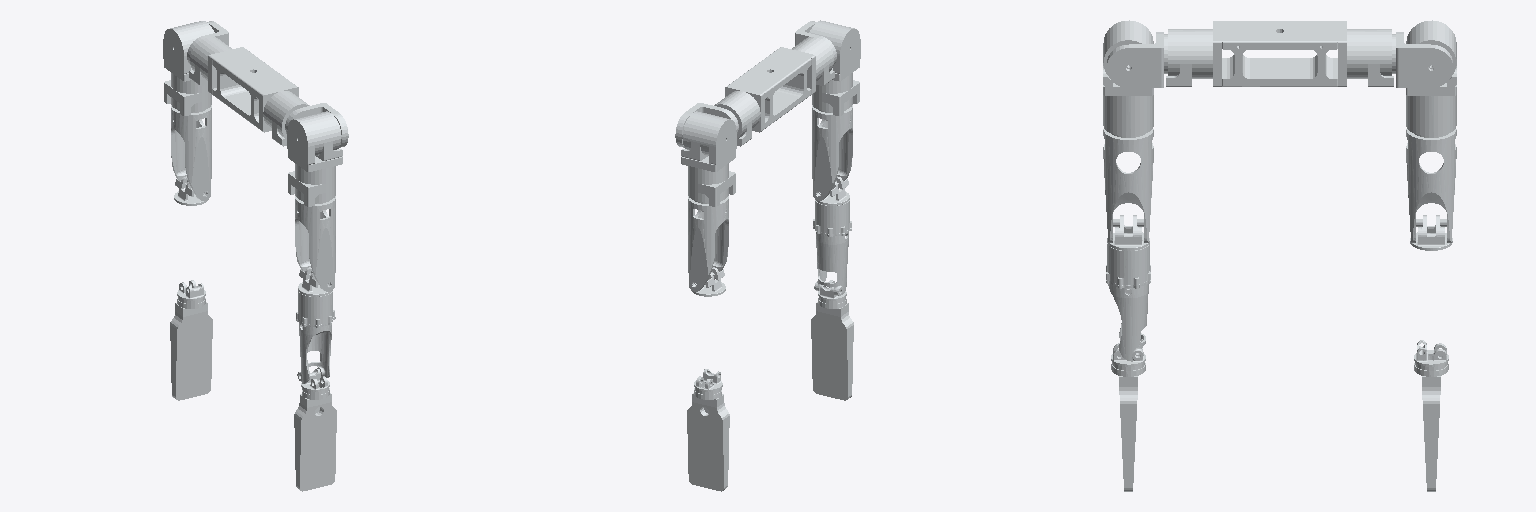
URDF robot description (cx_description):
<?xml version="1.0" encoding="utf-8"?>
<!-- This URDF was automatically created by SolidWorks to URDF Exporter! Originally created by [author] ([email redacted]) 
     Commit Version: 1.6.0-4-g7f85cfe  Build Version: 1.6.7995.38578
     For more information, please see http://wiki.ros.org/sw_urdf_exporter -->
<robot
  name="cx_description" >
  
  
    <link 
  name="dummy">
</link>
<joint 
  name="dummy_joint" 
  type="fixed">
  <parent 
  link="dummy"/>
  <child 
  link="base_link"/>
</joint>


  <link
    name="base_link">
    <inertial>
      <origin
        xyz="-8.57785426963885E-06 2.91685023845365E-11 -0.000974489333363106"
        rpy="0 0 0" />
      <mass
        value="4.32625731944912" />
      <inertia
        ixx="0.00936193290592399"
        ixy="-2.41377958713089E-11"
        ixz="1.11730024887402E-06"
        iyy="0.00464359195689199"
        iyz="3.91172399358543E-12"
        izz="0.00881969682014567" />
    </inertial>
    <visual>
      <origin
        xyz="0 0 0"
        rpy="0 0 0" />
      <geometry>
        <mesh
          filename="package://cx_description/meshes/base_link.STL" />
      </geometry>
      <material
        name="">
        <color
          rgba="0.898039215686275 0.917647058823529 0.929411764705882 1" />
      </material>
    </visual>
    <collision>
      <origin
        xyz="0 0 0"
        rpy="0 0 0" />
      <geometry>
        <mesh
          filename="package://cx_description/meshes/base_link.STL" />
      </geometry>
    </collision>
  </link>
  <link
    name="Link101">
    <inertial>
      <origin
        xyz="1.7677E-18 0.031119 -0.031336"
        rpy="0 0 0" />
      <mass
        value="0.30814" />
      <inertia
        ixx="0.00036302"
        ixy="-3.948E-20"
        ixz="1.1132E-19"
        iyy="0.00031107"
        iyz="-9.0829E-05"
        izz="0.0003086" />
    </inertial>
    <visual>
      <origin
        xyz="0 0 0"
        rpy="0 0 0" />
      <geometry>
        <mesh
          filename="package://cx_description/meshes/Link101.STL" />
      </geometry>
      <material
        name="">
        <color
          rgba="0.89804 0.91765 0.92941 1" />
      </material>
    </visual>
    <collision>
      <origin
        xyz="0 0 0"
        rpy="0 0 0" />
      <geometry>
        <mesh
          filename="package://cx_description/meshes/Link101.STL" />
      </geometry>
    </collision>
  </link>
  <joint
    name="joint101"
    type="revolute">
    <origin
      xyz="0 0.241 0"
      rpy="0 -1.5708 -1.5708" />
    <parent
      link="base_link" />
    <child
      link="Link101" />
    <axis
      xyz="0 0 -1" />
    <limit
      lower="-3.14"
      upper="3.14"
      effort="100"
      velocity="1" />
  </joint>
  <link
    name="Link102">
    <inertial>
      <origin
        xyz="6.5582E-11 0.047474 -0.00034923"
        rpy="0 0 0" />
      <mass
        value="2.6974" />
      <inertia
        ixx="0.0030083"
        ixy="3.6065E-11"
        ixz="-5.4064E-11"
        iyy="0.0025465"
        iyz="4.3713E-05"
        izz="0.0028491" />
    </inertial>
    <visual>
      <origin
        xyz="0 0 0"
        rpy="0 0 0" />
      <geometry>
        <mesh
          filename="package://cx_description/meshes/Link102.STL" />
      </geometry>
      <material
        name="">
        <color
          rgba="0.89804 0.91765 0.92941 1" />
      </material>
    </visual>
    <collision>
      <origin
        xyz="0 0 0"
        rpy="0 0 0" />
      <geometry>
        <mesh
          filename="package://cx_description/meshes/Link102.STL" />
      </geometry>
    </collision>
  </link>
  <joint
    name="joint102"
    type="revolute">
    <origin
      xyz="0 0 0"
      rpy="0 1.5708 1.5708" />
    <parent
      link="Link101" />
    <child
      link="Link102" />
    <axis
      xyz="0 0 1" />
    <limit
      lower="-3.14"
      upper="3.14"
      effort="100"
      velocity="1" />
  </joint>
  <link
    name="Link103">
    <inertial>
      <origin
        xyz="0.00403786373486228 -8.5540454944355E-07 -0.110448513050591"
        rpy="0 0 0" />
      <mass
        value="0.542683241876568" />
      <inertia
        ixx="0.00196275066135883"
        ixy="1.20230059837588E-08"
        ixz="-0.000106647178605952"
        iyy="0.00182891010022251"
        iyz="-9.87744488588795E-08"
        izz="0.000634630066974942" />
    </inertial>
    <visual>
      <origin
        xyz="0 0 0"
        rpy="0 0 0" />
      <geometry>
        <mesh
          filename="package://cx_description/meshes/Link103.STL" />
      </geometry>
      <material
        name="">
        <color
          rgba="0.898039215686275 0.917647058823529 0.929411764705882 1" />
      </material>
    </visual>
    <collision>
      <origin
        xyz="0 0 0"
        rpy="0 0 0" />
      <geometry>
        <mesh
          filename="package://cx_description/meshes/Link103.STL" />
      </geometry>
    </collision>
  </link>
  <joint
    name="joint103"
    type="revolute">
    <origin
      xyz="0 0.31051 0"
      rpy="-1.5708 -1.5708 0" />
    <parent
      link="Link102" />
    <child
      link="Link103" />
    <axis
      xyz="0 0 1" />
    <limit
      lower="-3.14"
      upper="3.14"
      effort="100"
      velocity="1" />
  </joint>
  <link
    name="Link104">
    <inertial>
      <origin
        xyz="-0.010629 0.0077446 2.2742E-09"
        rpy="0 0 0" />
      <mass
        value="0.10826" />
      <inertia
        ixx="4.0318E-05"
        ixy="-5.5767E-07"
        ixz="7.0645E-12"
        iyy="5.2622E-05"
        iyz="-6.9112E-12"
        izz="4.1126E-05" />
    </inertial>
    <visual>
      <origin
        xyz="0 0 0"
        rpy="0 0 0" />
      <geometry>
        <mesh
          filename="package://cx_description/meshes/Link104.STL" />
      </geometry>
      <material
        name="">
        <color
          rgba="0.89804 0.91765 0.92941 1" />
      </material>
    </visual>
    <collision>
      <origin
        xyz="0 0 0"
        rpy="0 0 0" />
      <geometry>
        <mesh
          filename="package://cx_description/meshes/Link104.STL" />
      </geometry>
    </collision>
  </link>
  <joint
    name="joint104"
    type="revolute">
    <origin
      xyz="0.0125 0 0"
      rpy="1.5708 0 0" />
    <parent
      link="Link103" />
    <child
      link="Link104" />
    <axis
      xyz="0 0 -1" />
    <limit
      lower="-3.14"
      upper="3.14"
      effort="100"
      velocity="1" />
  </joint>
  <link
    name="Link105">
    <inertial>
      <origin
        xyz="0.00133867533735113 -2.52078063982315E-07 -0.136878436349784"
        rpy="0 0 0" />
      <mass
        value="0.823764981510393" />
      <inertia
        ixx="0.000805503567246632"
        ixy="4.34642990628117E-09"
        ixz="-3.4217286340017E-05"
        iyy="0.000788139498917337"
        iyz="2.4135042818871E-08"
        izz="0.000520088884504294" />
    </inertial>
    <visual>
      <origin
        xyz="0 0 0"
        rpy="0 0 0" />
      <geometry>
        <mesh
          filename="package://cx_description/meshes/Link105.STL" />
      </geometry>
      <material
        name="">
        <color
          rgba="0.898039215686275 0.917647058823529 0.929411764705882 1" />
      </material>
    </visual>
    <collision>
      <origin
        xyz="0 0 0"
        rpy="0 0 0" />
      <geometry>
        <mesh
          filename="package://cx_description/meshes/Link105.STL" />
      </geometry>
    </collision>
  </link>
  <joint
    name="joint105"
    type="revolute">
    <origin
      xyz="-0.0125 0.20712 0"
      rpy="-1.5708 1.5708 0" />
    <parent
      link="Link104" />
    <child
      link="Link105" />
    <axis
      xyz="0 0 1" />
    <limit
      lower="-3.14"
      upper="3.14"
      effort="100"
      velocity="1" />
  </joint>
  <link
    name="Link106">
    <inertial>
      <origin
        xyz="-0.0147561154984305 0.115479110569376 -1.14344406740984E-08"
        rpy="0 0 0" />
      <mass
        value="1.03484290276942" />
      <inertia
        ixx="0.00380934495195938"
        ixy="5.37470018645279E-06"
        ixz="-7.18789558645812E-11"
        iyy="0.000540685574036727"
        iyz="-3.26010155500601E-10"
        izz="0.00341220175694068" />
    </inertial>
    <visual>
      <origin
        xyz="0 0 0"
        rpy="0 0 0" />
      <geometry>
        <mesh
          filename="package://cx_description/meshes/Link106.STL" />
      </geometry>
      <material
        name="">
        <color
          rgba="0.898039215686275 0.917647058823529 0.929411764705882 1" />
      </material>
    </visual>
    <collision>
      <origin
        xyz="0 0 0"
        rpy="0 0 0" />
      <geometry>
        <mesh
          filename="package://cx_description/meshes/Link106.STL" />
      </geometry>
    </collision>
  </link>
  <joint
    name="joint106"
    type="revolute">
    <origin
      xyz="0.015 0 0"
      rpy="1.5708 0 0" />
    <parent
      link="Link105" />
    <child
      link="Link106" />
    <axis
      xyz="0 0 -1" />
    <limit
      lower="-3.14"
      upper="3.14"
      effort="100"
      velocity="1" />
  </joint>
  <link
    name="Link201">
    <inertial>
      <origin
        xyz="-1.4794906639831E-17 0.0311194583357994 0.0313358876222972"
        rpy="0 0 0" />
      <mass
        value="0.308135455569499" />
      <inertia
        ixx="0.00036301532443775"
        ixy="-6.28566469778367E-20"
        ixz="9.68520829746967E-20"
        iyy="0.000311071590986095"
        iyz="9.08288552069949E-05"
        izz="0.000308601623909284" />
    </inertial>
    <visual>
      <origin
        xyz="0 0 0"
        rpy="0 0 0" />
      <geometry>
        <mesh
          filename="package://cx_description/meshes/Link201.STL" />
      </geometry>
      <material
        name="">
        <color
          rgba="0.898039215686275 0.917647058823529 0.929411764705882 1" />
      </material>
    </visual>
    <collision>
      <origin
        xyz="0 0 0"
        rpy="0 0 0" />
      <geometry>
        <mesh
          filename="package://cx_description/meshes/Link201.STL" />
      </geometry>
    </collision>
  </link>
  <joint
    name="joint201"
    type="revolute">
    <origin
      xyz="0 -0.241 0"
      rpy="0 -1.5708 -1.5708" />
    <parent
      link="base_link" />
    <child
      link="Link201" />
    <axis
      xyz="0 0 -1" />
    <limit
      lower="-3.14"
      upper="3.14"
      effort="100"
      velocity="1" />
  </joint>
  <link
    name="Link202">
    <inertial>
      <origin
        xyz="6.55817899986033E-11 0.0474740262124326 -0.00034923154558"
        rpy="0 0 0" />
      <mass
        value="2.69736870589475" />
      <inertia
        ixx="0.0030082793755842"
        ixy="3.60652162516657E-11"
        ixz="-5.40640932621139E-11"
        iyy="0.0025464770034934"
        iyz="4.37126407123364E-05"
        izz="0.00284907972609921" />
    </inertial>
    <visual>
      <origin
        xyz="0 0 0"
        rpy="0 0 0" />
      <geometry>
        <mesh
          filename="package://cx_description/meshes/Link202.STL" />
      </geometry>
      <material
        name="">
        <color
          rgba="0.898039215686275 0.917647058823529 0.929411764705882 1" />
      </material>
    </visual>
    <collision>
      <origin
        xyz="0 0 0"
        rpy="0 0 0" />
      <geometry>
        <mesh
          filename="package://cx_description/meshes/Link202.STL" />
      </geometry>
    </collision>
  </link>
  <joint
    name="joint202"
    type="revolute">
    <origin
      xyz="0 0 0"
      rpy="0 1.5708 1.5708" />
    <parent
      link="Link201" />
    <child
      link="Link202" />
    <axis
      xyz="0 0 -1" />
    <limit
      lower="-3.14"
      upper="3.14"
      effort="100"
      velocity="1" />
  </joint>
  <link
    name="Link203">
    <inertial>
      <origin
        xyz="0.0040379 -8.554E-07 -0.11045"
        rpy="0 0 0" />
      <mass
        value="0.54268" />
      <inertia
        ixx="0.0019628"
        ixy="1.2023E-08"
        ixz="-0.00010665"
        iyy="0.0018289"
        iyz="-9.8774E-08"
        izz="0.00063463" />
    </inertial>
    <visual>
      <origin
        xyz="0 0 0"
        rpy="0 0 0" />
      <geometry>
        <mesh
          filename="package://cx_description/meshes/Link203.STL" />
      </geometry>
      <material
        name="">
        <color
          rgba="0.89804 0.91765 0.92941 1" />
      </material>
    </visual>
    <collision>
      <origin
        xyz="0 0 0"
        rpy="0 0 0" />
      <geometry>
        <mesh
          filename="package://cx_description/meshes/Link203.STL" />
      </geometry>
    </collision>
  </link>
  <joint
    name="joint203"
    type="revolute">
    <origin
      xyz="0 0.31051 0"
      rpy="-1.5708 -1.5708 0" />
    <parent
      link="Link202" />
    <child
      link="Link203" />
    <axis
      xyz="0 0 -1" />
    <limit
      lower="-3.14"
      upper="3.14"
      effort="100"
      velocity="1" />
  </joint>
  <link
    name="Link204">
    <inertial>
      <origin
        xyz="-0.0106288743285585 0.00774461276828298 2.53762263979773E-09"
        rpy="0 0 0" />
      <mass
        value="0.108256528509688" />
      <inertia
        ixx="4.03178186913715E-05"
        ixy="-5.57671090684545E-07"
        ixz="7.66559441769553E-12"
        iyy="5.26215343038913E-05"
        iyz="-7.06238638856916E-12"
        izz="4.11256802411633E-05" />
    </inertial>
    <visual>
      <origin
        xyz="0 0 0"
        rpy="0 0 0" />
      <geometry>
        <mesh
          filename="package://cx_description/meshes/Link204.STL" />
      </geometry>
      <material
        name="">
        <color
          rgba="0.898039215686275 0.917647058823529 0.929411764705882 1" />
      </material>
    </visual>
    <collision>
      <origin
        xyz="0 0 0"
        rpy="0 0 0" />
      <geometry>
        <mesh
          filename="package://cx_description/meshes/Link204.STL" />
      </geometry>
    </collision>
  </link>
  <joint
    name="joint204"
    type="revolute">
    <origin
      xyz="0.0125 0 0"
      rpy="1.5708 0 0" />
    <parent
      link="Link203" />
    <child
      link="Link204" />
    <axis
      xyz="0 0 -1" />
    <limit
      lower="-3.14"
      upper="3.14"
      effort="100"
      velocity="1" />
  </joint>
  <link
    name="Link205">
    <inertial>
      <origin
        xyz="-0.0013387 2.5208E-07 -0.13688"
        rpy="0 0 0" />
      <mass
        value="0.82376" />
      <inertia
        ixx="0.0008055"
        ixy="4.3464E-09"
        ixz="3.4217E-05"
        iyy="0.00078814"
        iyz="-2.4135E-08"
        izz="0.00052009" />
    </inertial>
    <visual>
      <origin
        xyz="0 0 0"
        rpy="0 0 0" />
      <geometry>
        <mesh
          filename="package://cx_description/meshes/Link205.STL" />
      </geometry>
      <material
        name="">
        <color
          rgba="0.89804 0.91765 0.92941 1" />
      </material>
    </visual>
    <collision>
      <origin
        xyz="0 0 0"
        rpy="0 0 0" />
      <geometry>
        <mesh
          filename="package://cx_description/meshes/Link205.STL" />
      </geometry>
    </collision>
  </link>
  <joint
    name="joint205"
    type="revolute">
    <origin
      xyz="-0.0125 0.20712 0"
      rpy="-1.5708 1.5708 0" />
    <parent
      link="Link204" />
    <child
      link="Link205" />
    <axis
      xyz="0 0 -1" />
    <limit
      lower="-3.14"
      upper="3.14"
      effort="100"
      velocity="1" />
  </joint>
  <link
    name="Link206">
    <inertial>
      <origin
        xyz="0.014756 0.11548 1.1434E-08"
        rpy="0 0 0" />
      <mass
        value="1.0348" />
      <inertia
        ixx="0.0038093"
        ixy="-5.3747E-06"
        ixz="-7.1879E-11"
        iyy="0.00054069"
        iyz="3.2601E-10"
        izz="0.0034122" />
    </inertial>
    <visual>
      <origin
        xyz="0 0 0"
        rpy="0 0 0" />
      <geometry>
        <mesh
          filename="package://cx_description/meshes/Link206.STL" />
      </geometry>
      <material
        name="">
        <color
          rgba="0.89804 0.91765 0.92941 1" />
      </material>
    </visual>
    <collision>
      <origin
        xyz="0 0 0"
        rpy="0 0 0" />
      <geometry>
        <mesh
          filename="package://cx_description/meshes/Link206.STL" />
      </geometry>
    </collision>
  </link>
  <joint
    name="joint206"
    type="revolute">
    <origin
      xyz="-0.015 0 0"
      rpy="1.5708 0 0" />
    <parent
      link="Link205" />
    <child
      link="Link206" />
    <axis
      xyz="0 0 1" />
    <limit
      lower="-3.14"
      upper="3.14"
      effort="100"
      velocity="1" />
  </joint>
  
  
    
    
    
</robot>

--- Render facts (derived) ---
The picture shows the robot from 3 angles, left to right: view 1: azimuth 30°, elevation 25°; view 2: azimuth 150°, elevation 25°; view 3: azimuth 270°, elevation 25°; orthographic projection.
Model cx_description with 14 links and 13 joints (12 revolute, 1 fixed), rooted at dummy, posed all joints at 0.
Visible links, largest first — view 1: base_link, Link106, Link202, Link206, Link103, Link203, Link102, Link205, Link201; view 2: base_link, Link106, Link102, Link206, Link203, Link103, Link202, Link205, Link101; view 3: base_link, Link202, Link102, Link205, Link103, Link203, Link106, Link101, Link201, Link206, Link104, Link204.
Link boxes in pixels (x1,y1,x2,y2): base_link: (189, 37, 309, 146); Link106: (170, 280, 212, 400); Link202: (287, 111, 342, 206); Link206: (294, 369, 336, 491); Link103: (171, 105, 211, 200); Link203: (295, 196, 335, 291); Link102: (163, 21, 214, 115); Link205: (296, 291, 335, 383); Link201: (285, 103, 348, 147); base_link: (714, 37, 834, 146); Link106: (687, 369, 729, 491); Link102: (681, 111, 736, 206); Link206: (811, 280, 853, 400); Link203: (812, 105, 852, 200); Link103: (688, 196, 728, 291); Link202: (809, 20, 860, 115); Link205: (813, 200, 851, 295); Link101: (675, 103, 738, 147); base_link: (1164, 21, 1395, 86); Link202: (1103, 20, 1153, 137); Link102: (1406, 20, 1456, 137); Link205: (1106, 243, 1150, 361); Link103: (1406, 129, 1456, 242); Link203: (1103, 129, 1153, 242); Link106: (1414, 340, 1448, 491); Link101: (1396, 32, 1452, 87); Link201: (1107, 32, 1163, 87); Link206: (1111, 341, 1145, 491); Link104: (1410, 215, 1452, 250); Link204: (1107, 215, 1149, 250).
Size in the robot's own frame: 0.0938 by 0.562 by 0.7936 metres.
12 mesh visuals loaded from 13 distinct referenced files (12 binary STL); not drawn: 1 (reference not matched to a file when rendering).